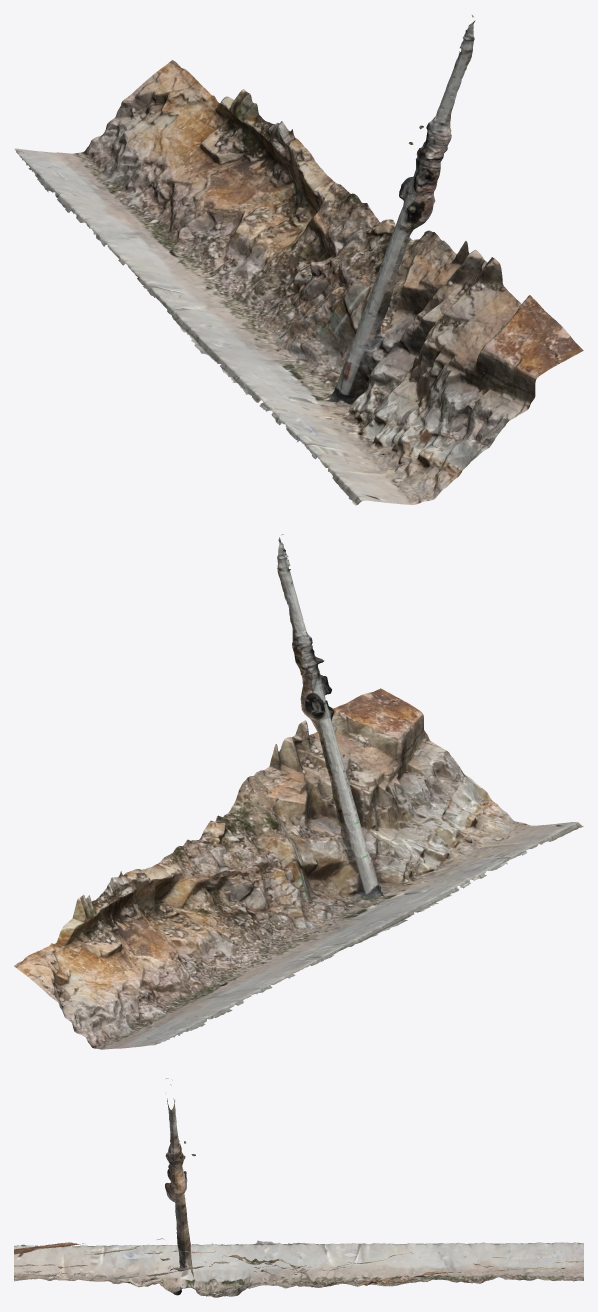
3 views of the same model, one above another, from view 1: azimuth 30°, elevation 25°; view 2: azimuth 150°, elevation 25°; view 3: azimuth 270°, elevation 25° (orthographic). The views are drawn at different scales.
Bounding box in the file's own units: 3.24 × 4.97 × 10.11.
1 material, 1 textured.
